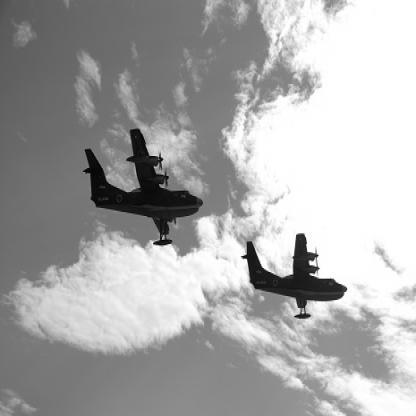US2: (83, 128, 205, 248), (241, 233, 349, 321)
